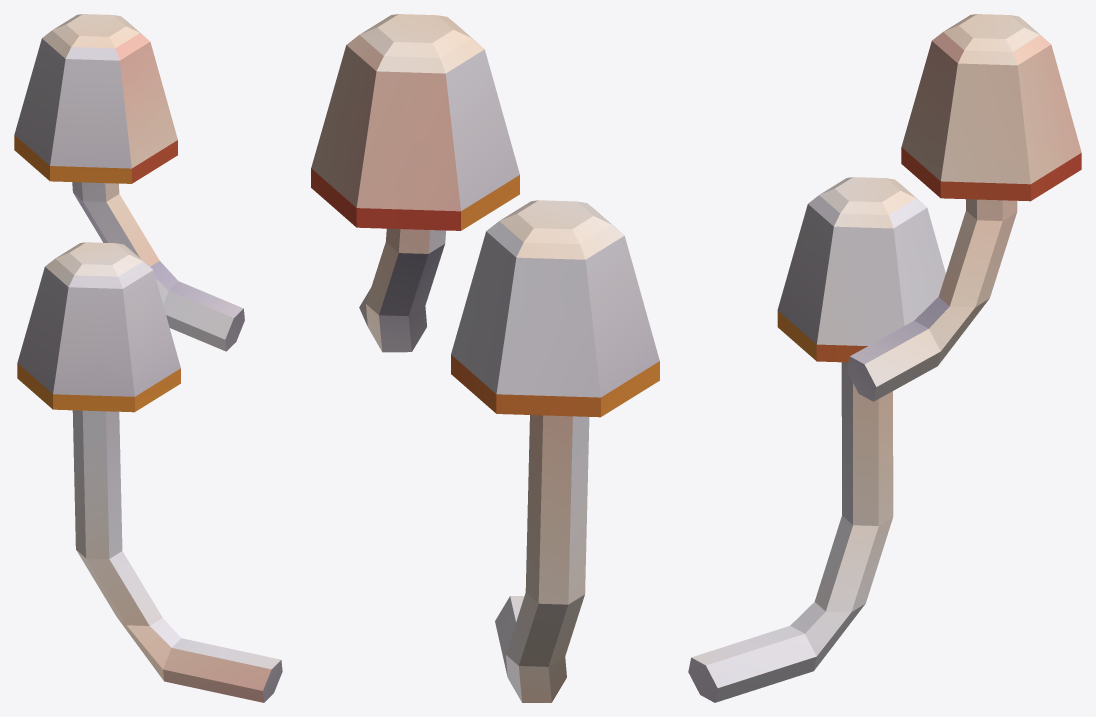
The model's file is Grass_mushroom03.fbx.
The picture shows the model from 3 angles, left to right: view 1: azimuth 30°, elevation 25°; view 2: azimuth 150°, elevation 25°; view 3: azimuth 270°, elevation 25°; orthographic projection. The views are drawn at different scales.
Parts seen in each view (by area): view 1: Ghostcap Mushroom; view 2: Ghostcap Mushroom; view 3: Ghostcap Mushroom.
Part boxes in pixels (x1,y1,x2,y2): Ghostcap Mushroom: [14, 14, 282, 702]; Ghostcap Mushroom: [311, 14, 659, 702]; Ghostcap Mushroom: [688, 14, 1081, 702].
Size of the model in its own units: 10.44 by 27.51 by 15.11.
